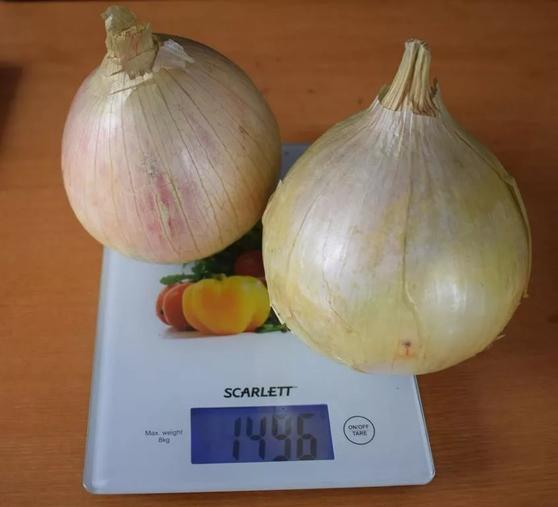onion: (260, 74, 539, 370), (62, 32, 277, 264)
